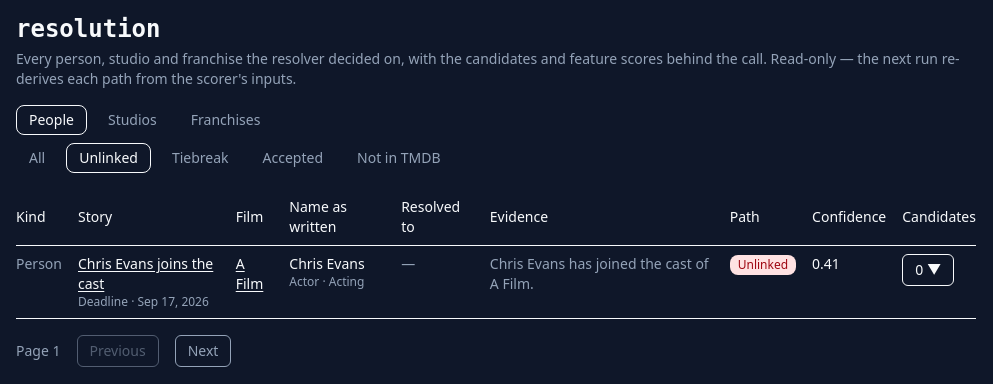
Scenario: AdminResolution › pages forward and back with the cursor the previous page returned
Expected: the text "Chris Evans" is shown, [289,254,365,273]
Expected: the text "Page 1" is shown, [16,341,60,361]
Click the button "Next". click: click(203, 351)
box: [175,335,231,367]
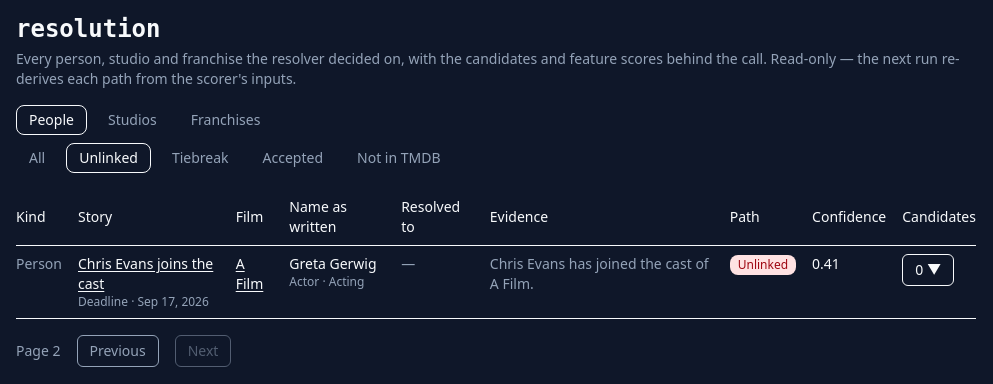
Now the text "Greta Gerwig" is shown, box [289,254,385,274]
Now the text "Page 2" is shown, box [16,341,60,361]
Now the button "Next" is disabled, box [175,335,231,367]
Click the button "Previous". click: click(118, 351)
box: [76,335,159,367]
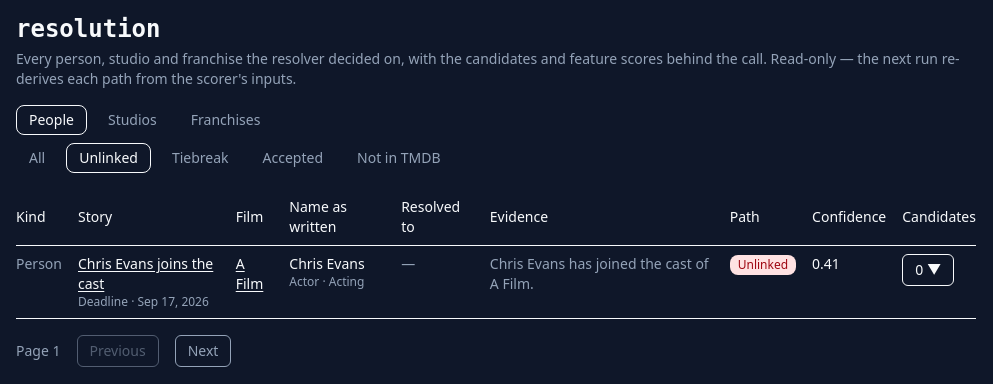
Now the text "Chris Evans" is shown, box [289,254,365,273]
Now the text "Page 1" is shown, box [16,341,60,361]
